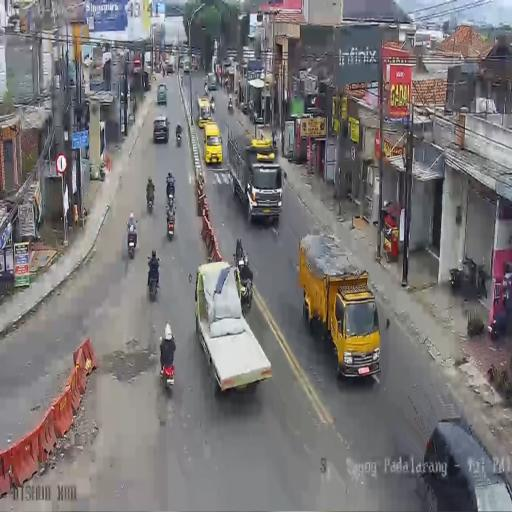car: (422, 415, 511, 510), (202, 122, 223, 164), (153, 116, 169, 144), (143, 50, 152, 80), (206, 71, 218, 92), (157, 83, 167, 105), (164, 60, 174, 75), (183, 59, 191, 74), (179, 58, 184, 70)
motorcycle: (160, 348, 175, 390), (147, 262, 160, 298), (165, 201, 176, 239), (126, 228, 136, 260), (146, 186, 154, 212), (176, 127, 182, 145), (209, 96, 215, 114), (228, 95, 233, 112)
truck: (298, 232, 380, 380), (228, 127, 283, 226)
